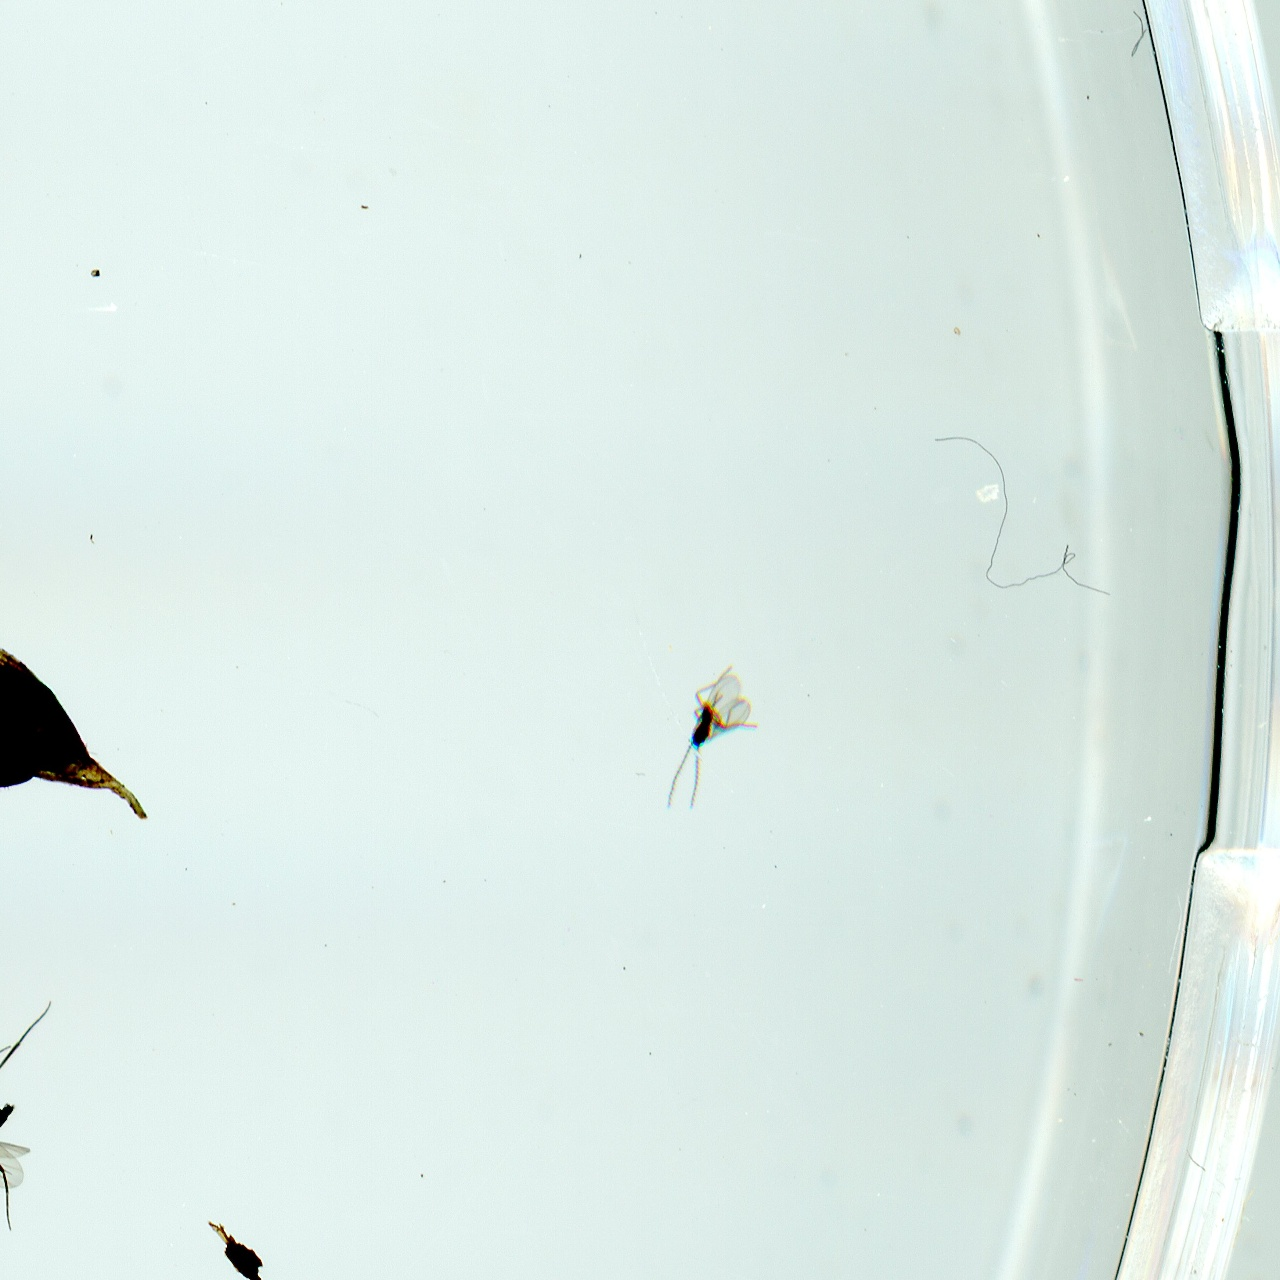arthropod: (662, 662, 762, 816), (0, 995, 56, 1234)
